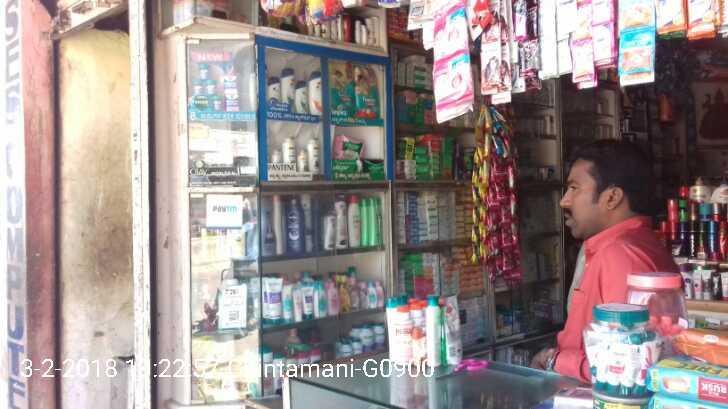beauty: (308, 69, 325, 115), (280, 66, 295, 104), (308, 136, 322, 174), (295, 80, 309, 114), (283, 136, 296, 163), (267, 76, 279, 104), (295, 149, 308, 171)
pharmacy: (353, 62, 379, 115), (329, 59, 354, 112), (331, 132, 364, 158), (358, 157, 382, 178), (332, 159, 358, 178), (225, 91, 239, 111), (223, 75, 237, 92), (199, 63, 208, 81), (207, 81, 216, 95)
